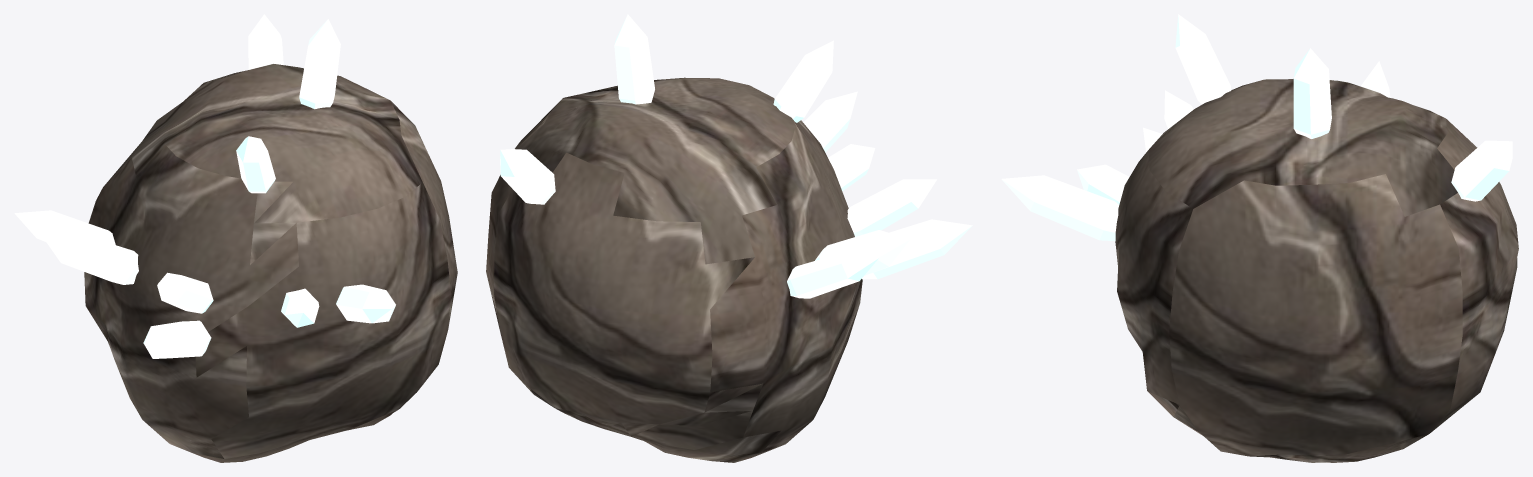
Rendered from ore_mithril.glb.
The picture shows the model from 3 angles, left to right: view 1: azimuth 30°, elevation 25°; view 2: azimuth 150°, elevation 25°; view 3: azimuth 270°, elevation 25°; orthographic projection. The views are drawn at different scales.
Visible parts, largest first — view 1: ore_mithril; view 2: ore_mithril; view 3: ore_mithril.
Boxes of the visible parts, x1,y1,x2,y2 form: ore_mithril: [14, 14, 457, 462]; ore_mithril: [486, 14, 972, 462]; ore_mithril: [1001, 14, 1518, 462].
Size of the model in its own units: 0.5559 by 0.5646 by 0.61.
2 materials, 1 textured.
